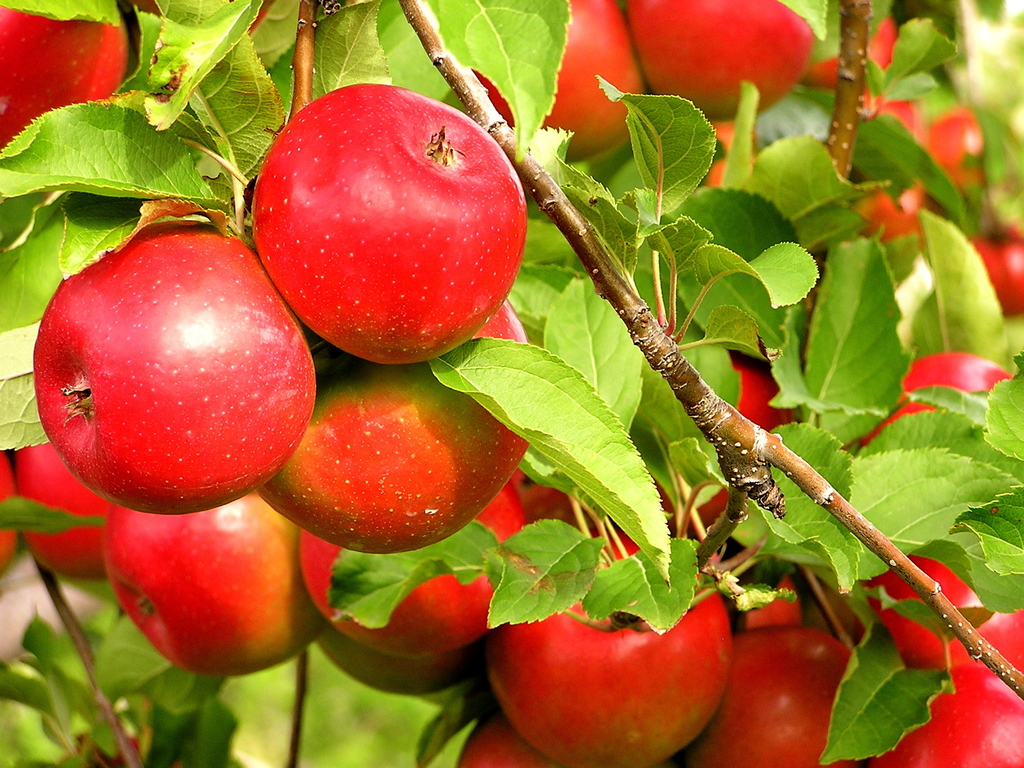Apple: (0, 0, 1023, 762), (0, 0, 132, 176)
